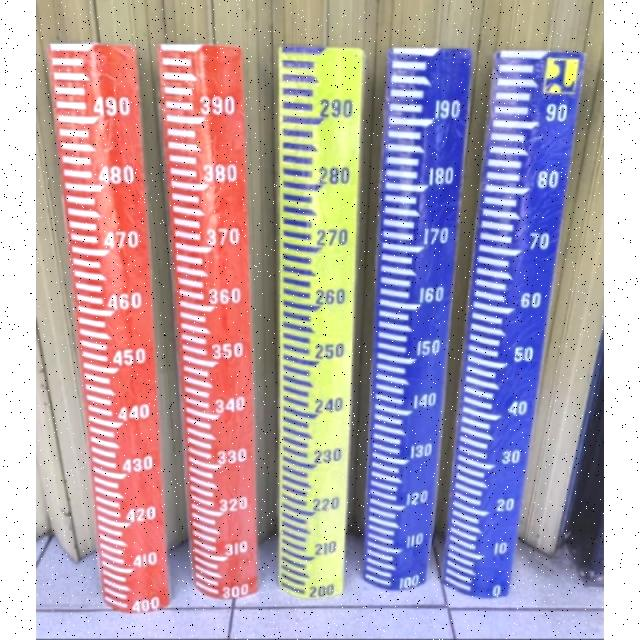staff: (466, 45, 584, 603), (49, 39, 162, 611), (163, 42, 248, 610), (274, 48, 359, 600), (372, 46, 451, 596)
